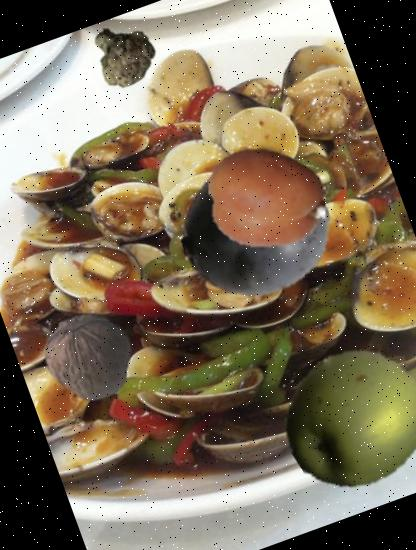Apple: (262, 325, 416, 510)
Apricot: (192, 123, 342, 273)
Cauliflower: (82, 16, 164, 98)
Plum: (160, 131, 352, 323)
Walnut: (32, 297, 150, 415)
